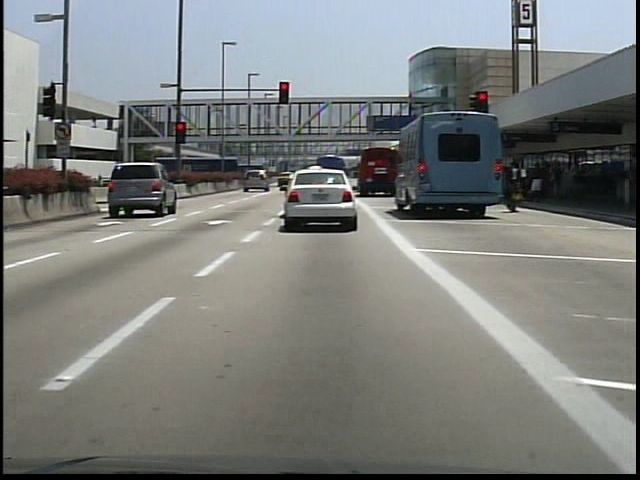person: (501, 154, 522, 216), (529, 157, 545, 203)
